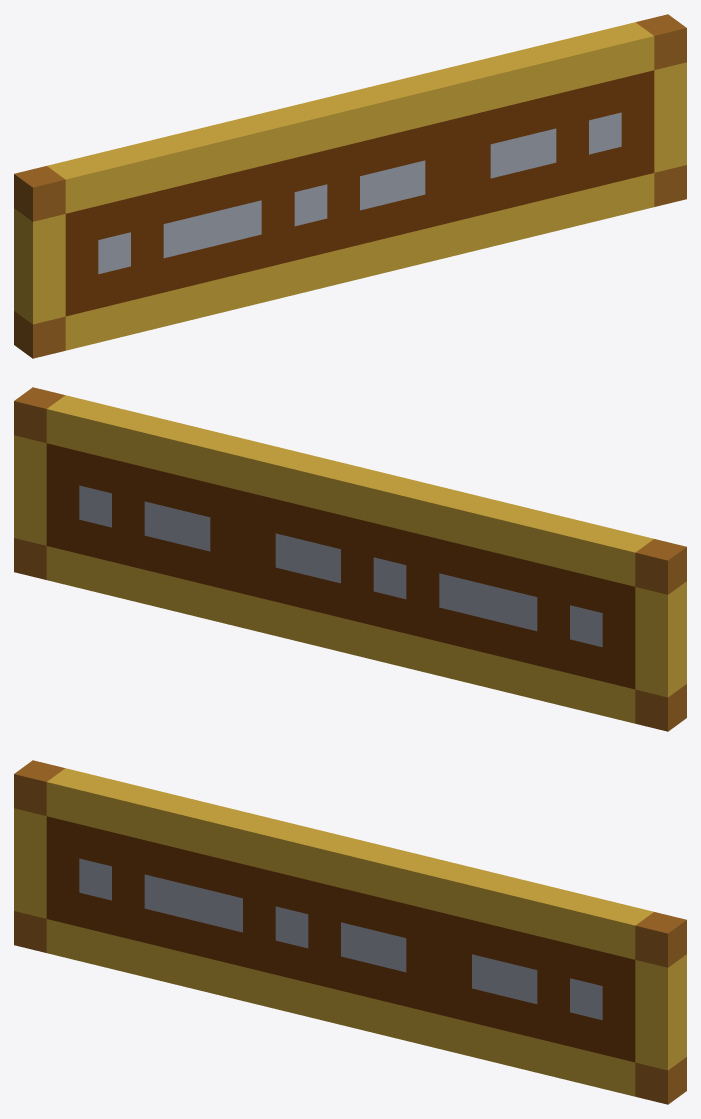
File: plaque.obj
3 views of the same model, one above another, from view 1: azimuth 30°, elevation 25°; view 2: azimuth 150°, elevation 25°; view 3: azimuth 330°, elevation 25° (orthographic).
Bounding box in the file's own units: 2 × 0.5 × 0.1.
1 material, 1 textured.
